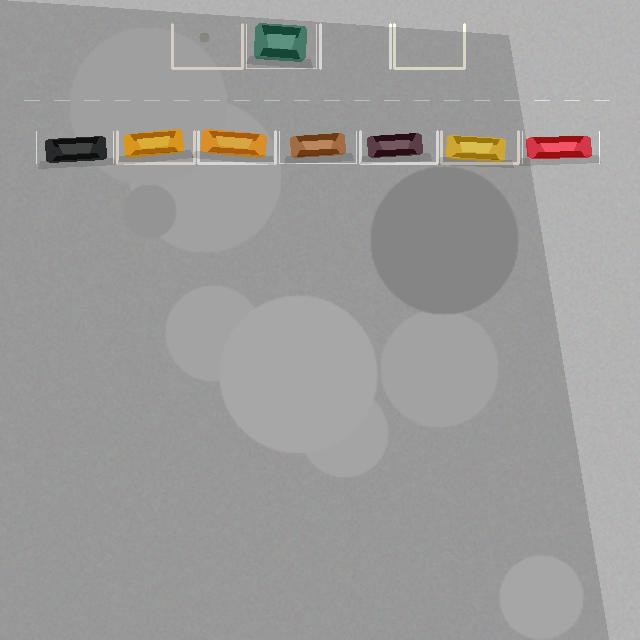space-empty: (172, 24, 242, 68), (320, 24, 390, 68), (394, 24, 464, 68)
space-occupied: (246, 24, 316, 68), (36, 131, 113, 163), (117, 131, 194, 163), (198, 131, 275, 163), (279, 131, 356, 163), (360, 131, 437, 163), (441, 131, 518, 163), (522, 131, 599, 163)
